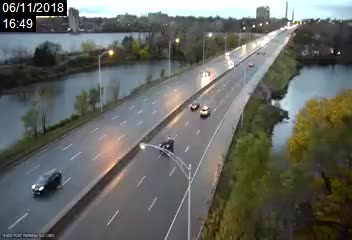personal_car: (29, 168, 64, 196), (158, 136, 177, 156), (200, 105, 210, 118), (189, 100, 200, 110), (202, 67, 211, 77), (246, 61, 254, 68)
